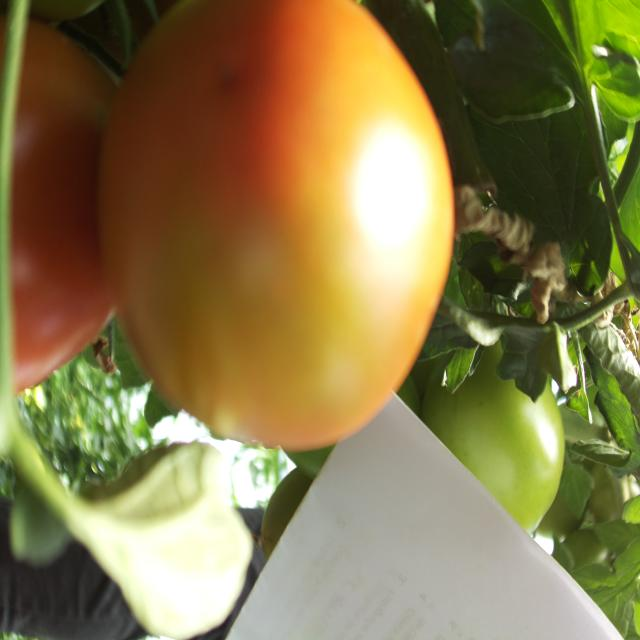yesil: (74, 0, 478, 469)
